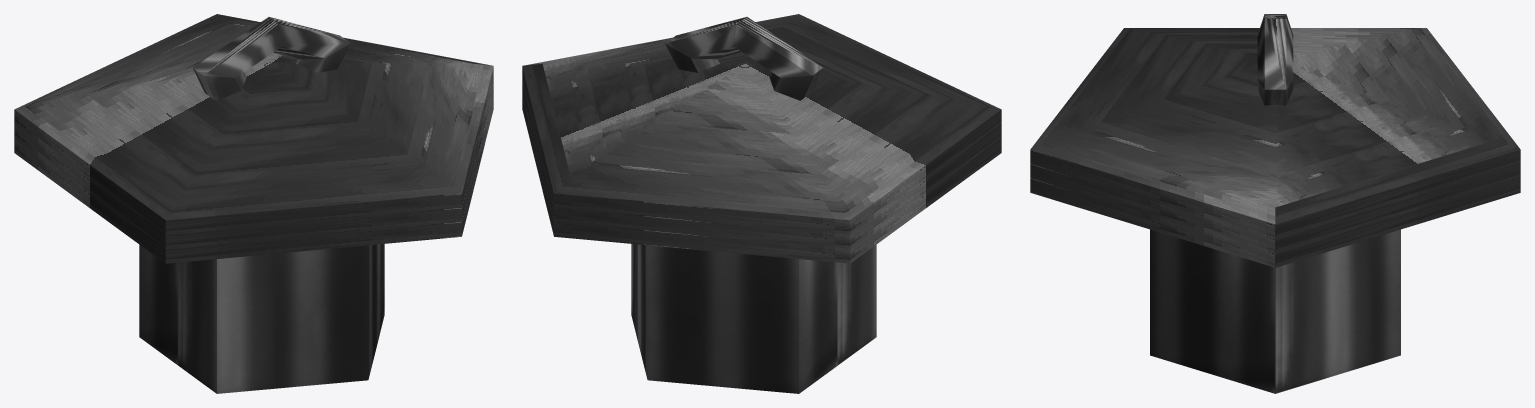
The model's file is bigbin.fbx.
The picture shows the model from 3 angles, left to right: view 1: azimuth 30°, elevation 25°; view 2: azimuth 150°, elevation 25°; view 3: azimuth 270°, elevation 25°; orthographic projection.
Parts seen in each view (by area): view 1: polySurface2, polySurface1, polySurface3; view 2: polySurface2, polySurface1, polySurface3; view 3: polySurface2, polySurface1, polySurface3.
Boxes of the visible parts, x1,y1,x2,y2 form: polySurface2: (14, 14, 493, 263); polySurface1: (139, 244, 384, 393); polySurface3: (193, 17, 350, 100); polySurface2: (522, 14, 1001, 263); polySurface1: (631, 244, 876, 393); polySurface3: (665, 17, 822, 100); polySurface2: (1030, 28, 1520, 267); polySurface1: (1150, 229, 1400, 393); polySurface3: (1257, 14, 1293, 105).
Bounding box in the file's own units: 49.11 × 37.36 × 51.63.
